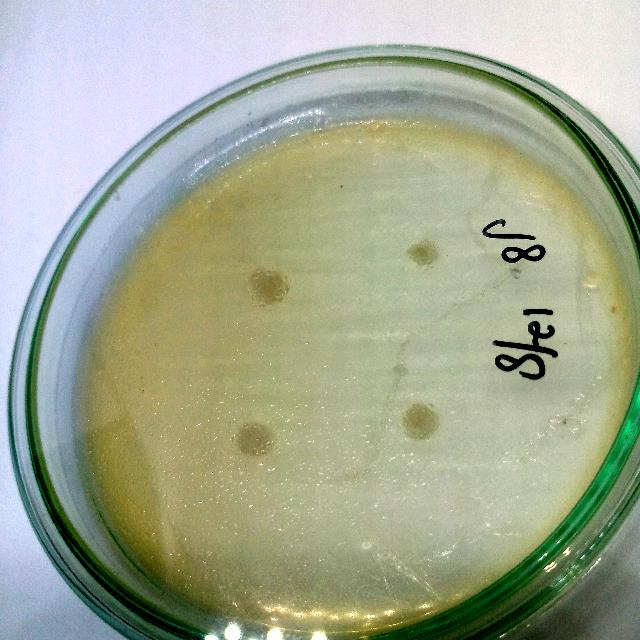colony: (242, 264, 298, 312), (395, 398, 445, 446), (228, 418, 280, 464), (401, 232, 445, 270)
